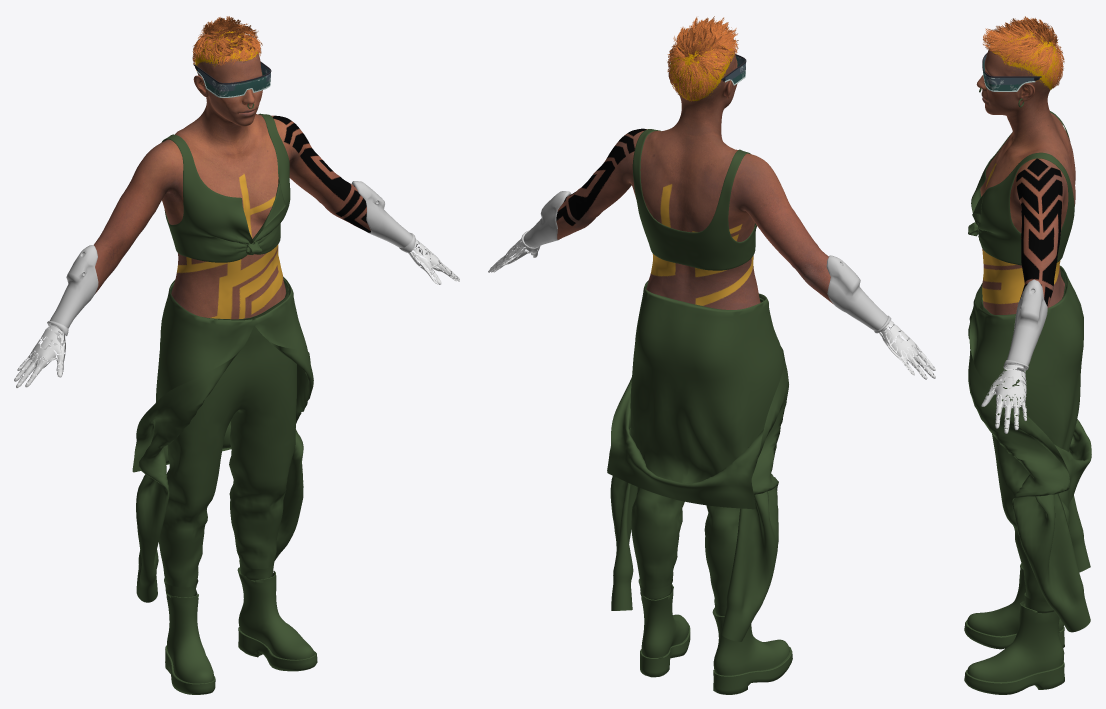
The model's file is TechguaraSke.fbx.
3 renders of one model, left to right at view 1: azimuth 30°, elevation 25°; view 2: azimuth 150°, elevation 25°; view 3: azimuth 270°, elevation 25°, orthographic.
Visible parts, largest first — view 1: Body, CoverallPants, CoverallBack, Boots, Shirt, Forearms, HS FWS Hair G9M.Shape, Retopo_Hands, Glasses; view 2: CoverallBack, Body, CoverallPants, Boots, Shirt, HS FWS Hair G9M.Shape, Forearms, Retopo_Hands; view 3: CoverallBack, Body, Boots, Shirt, HS FWS Hair G9M.Shape, CoverallPants, Forearms, Retopo_Hands, Glasses.
Boxes of the visible parts, x1,y1,x2,y2 form: Body: (94, 53, 370, 319); CoverallPants: (158, 278, 296, 597); CoverallBack: (132, 277, 313, 602); Boots: (165, 567, 317, 694); Shirt: (161, 113, 290, 262); Forearms: (47, 181, 415, 335); HS FWS Hair G9M.Shape: (192, 16, 262, 70); Retopo_Hands: (14, 239, 459, 387); Glasses: (193, 61, 271, 97); CoverallBack: (607, 280, 788, 641); Body: (556, 51, 833, 309); CoverallPants: (631, 282, 763, 616); Boots: (640, 584, 792, 694); Shirt: (632, 129, 756, 270); HS FWS Hair G9M.Shape: (667, 16, 738, 101); Forearms: (521, 191, 891, 333); Retopo_Hands: (488, 239, 935, 379); CoverallBack: (968, 265, 1091, 632); Body: (976, 34, 1075, 314); Boots: (964, 563, 1064, 694); Shirt: (968, 111, 1074, 265); HS FWS Hair G9M.Shape: (983, 16, 1064, 89); CoverallPants: (981, 267, 1069, 613); Forearms: (1003, 279, 1047, 371); Retopo_Hands: (981, 364, 1026, 433); Glasses: (982, 53, 1041, 91).
Size of the model in its own units: 129 by 180 by 32.14.
